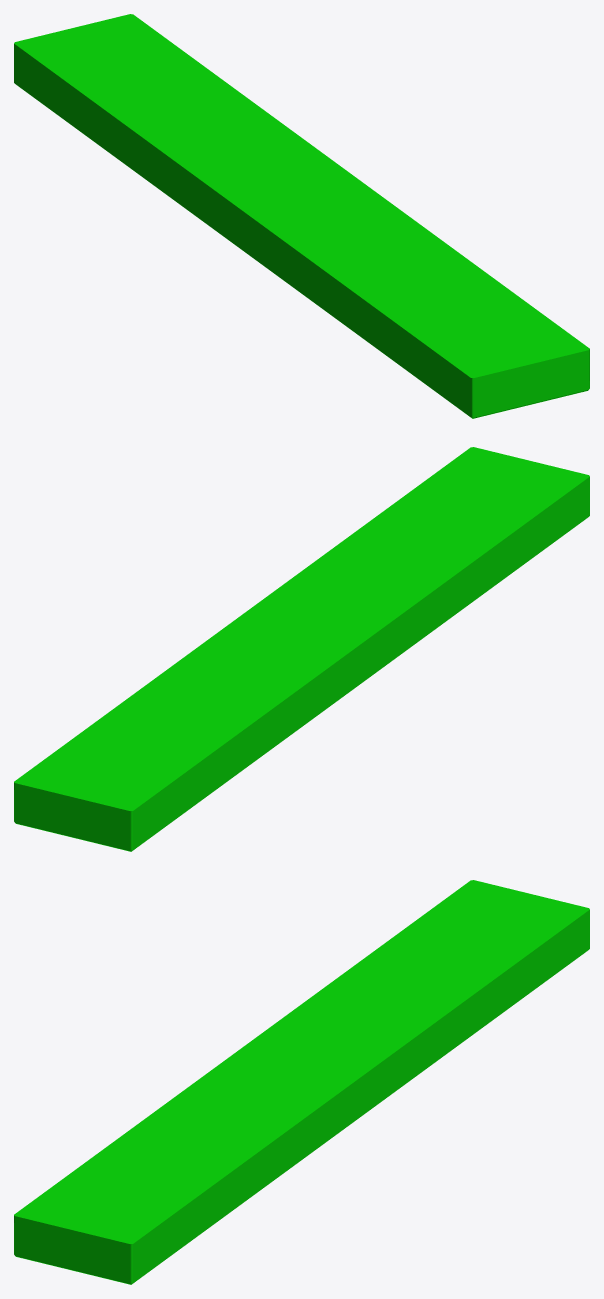
The model's file is lamp.fbx.
The picture shows the model from 3 angles, top to bottom: view 1: azimuth 30°, elevation 25°; view 2: azimuth 150°, elevation 25°; view 3: azimuth 330°, elevation 25°; orthographic projection.
Parts seen in each view (by area): view 1: Lamp.001; view 2: Lamp.001; view 3: Lamp.001.
Boxes of the visible parts, bbox=[...] form: Lamp.001: bbox=[14, 14, 589, 418]; Lamp.001: bbox=[14, 447, 589, 851]; Lamp.001: bbox=[14, 880, 589, 1284].
Size of the model in its own units: 60 by 20 by 400.
